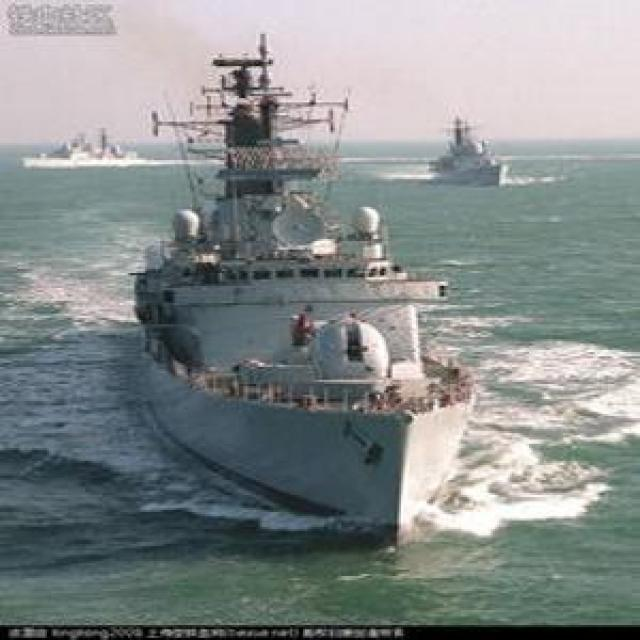navalvessels: (138, 40, 475, 549), (432, 112, 511, 187), (19, 126, 142, 168)
